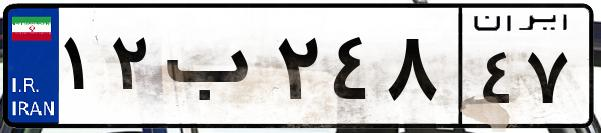1: (57, 26, 110, 100)
2: (270, 28, 330, 110), (110, 28, 158, 98)
4: (330, 28, 385, 110), (475, 38, 525, 113)
7: (525, 38, 570, 115)
8: (385, 28, 445, 110)
ب: (158, 20, 270, 120)
